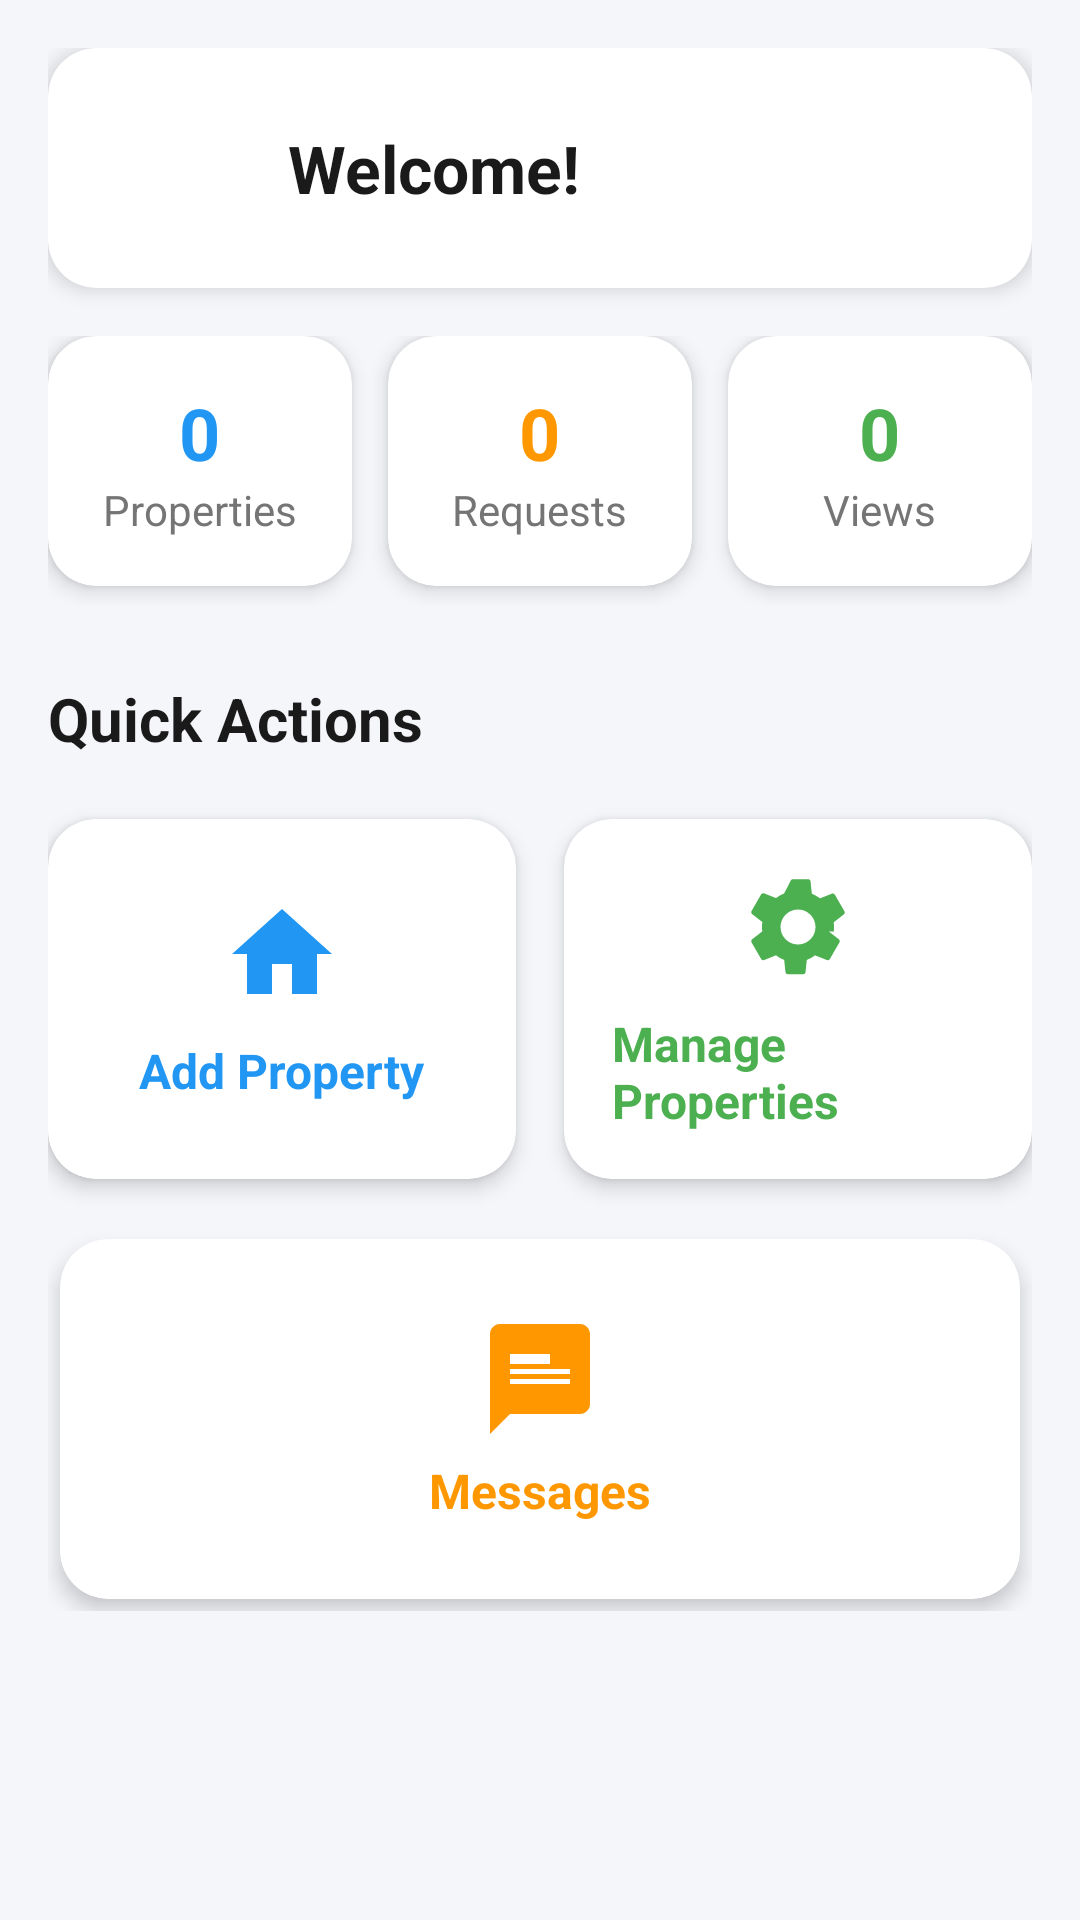

Icons on this 1080 x 1920 Android screen, each with its box as [x1=x1, y1=y1, x2=x2, y2=y2]:
add home: [x1=232, y1=909, x2=332, y2=994]
chat bubble: [x1=490, y1=1324, x2=590, y2=1434]
